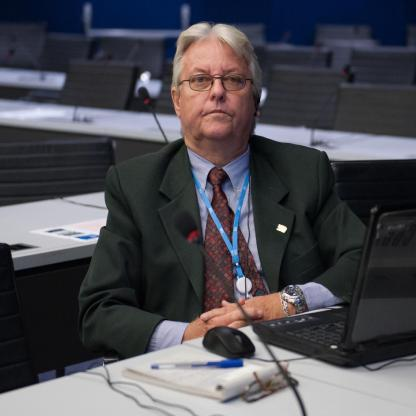board: (242, 180, 402, 389)
